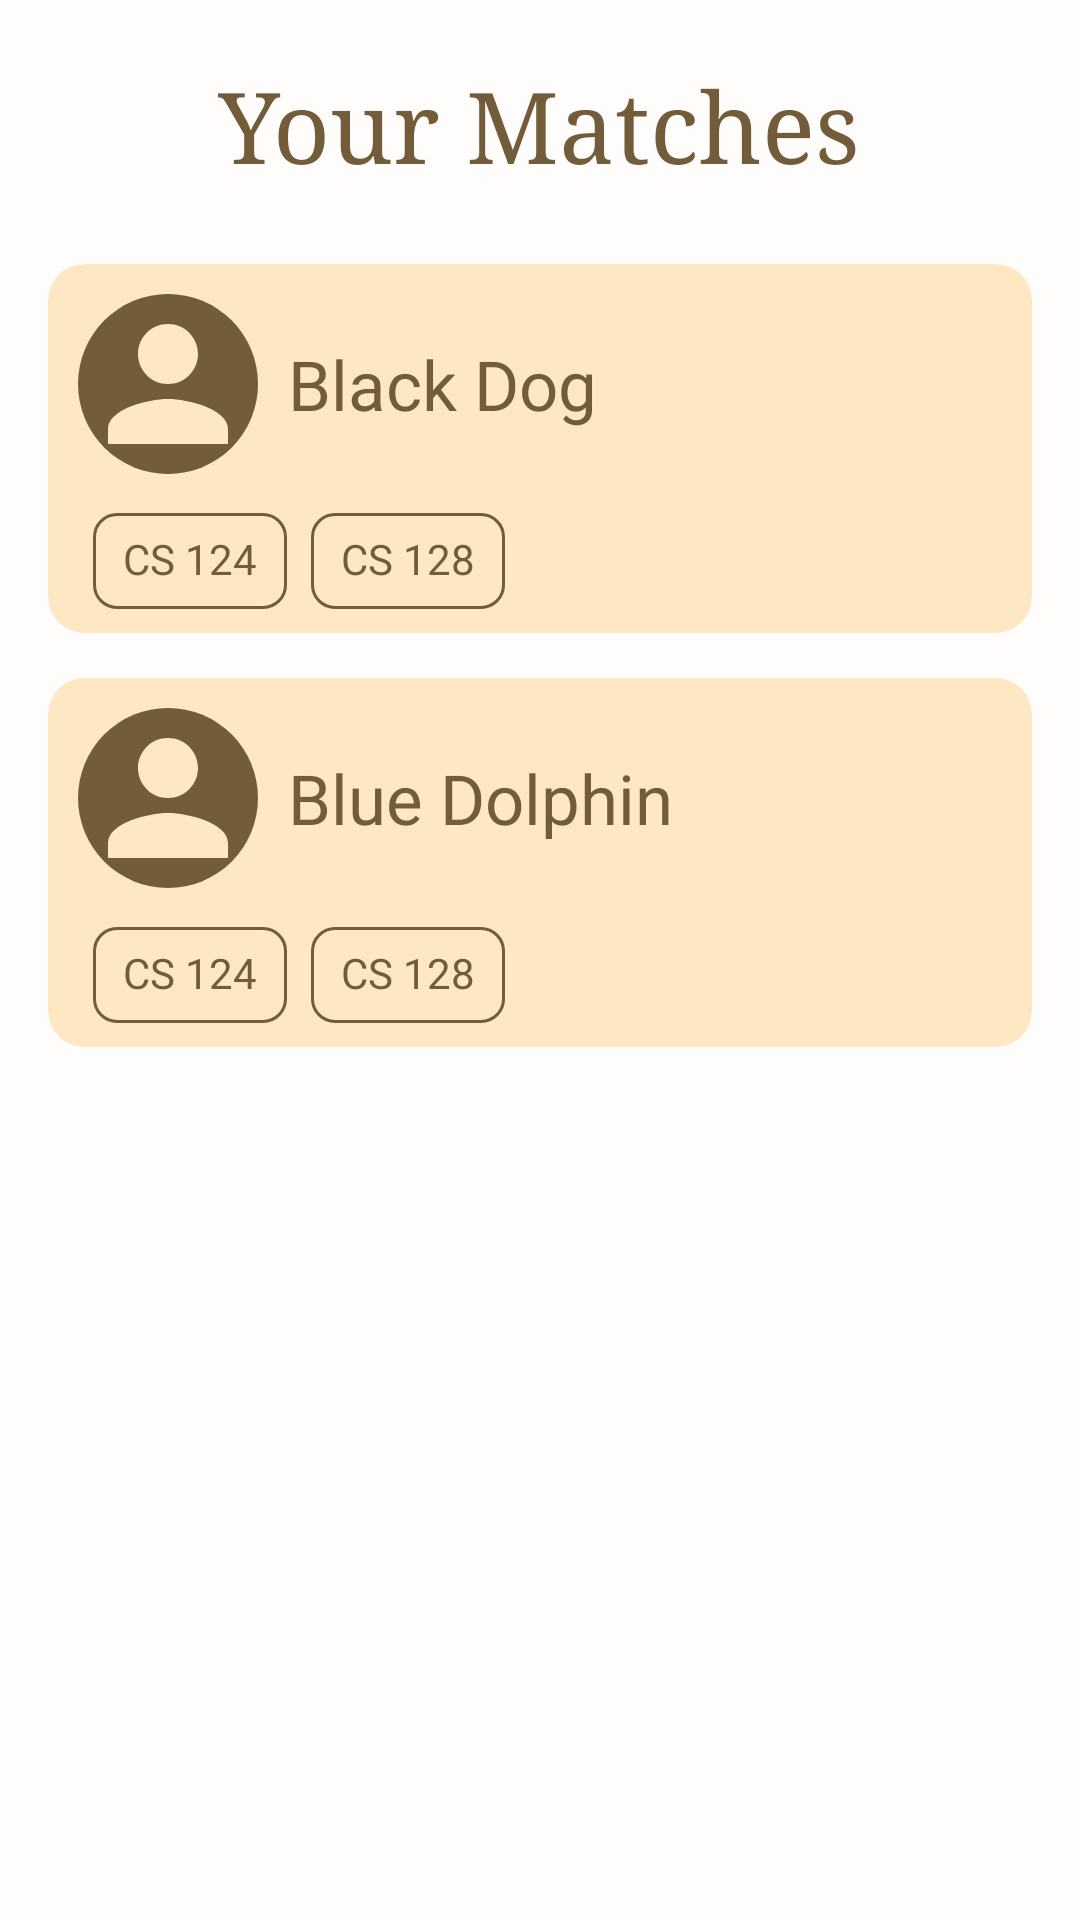

Named icons in this screenshot (1080px×1920px) and their centers, (x=x, y=y):
profile on card: (x=168, y=384), (x=168, y=798)
